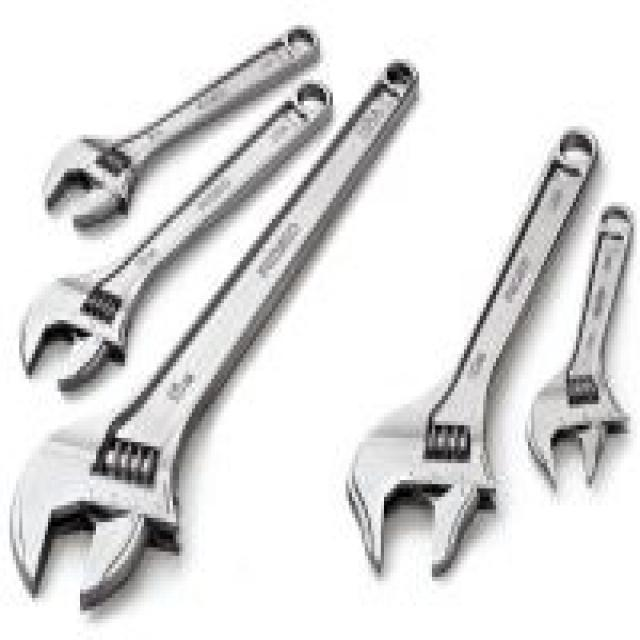wrench: (4, 42, 417, 607), (342, 116, 602, 583), (20, 78, 321, 395), (43, 27, 322, 229), (522, 199, 640, 499)
